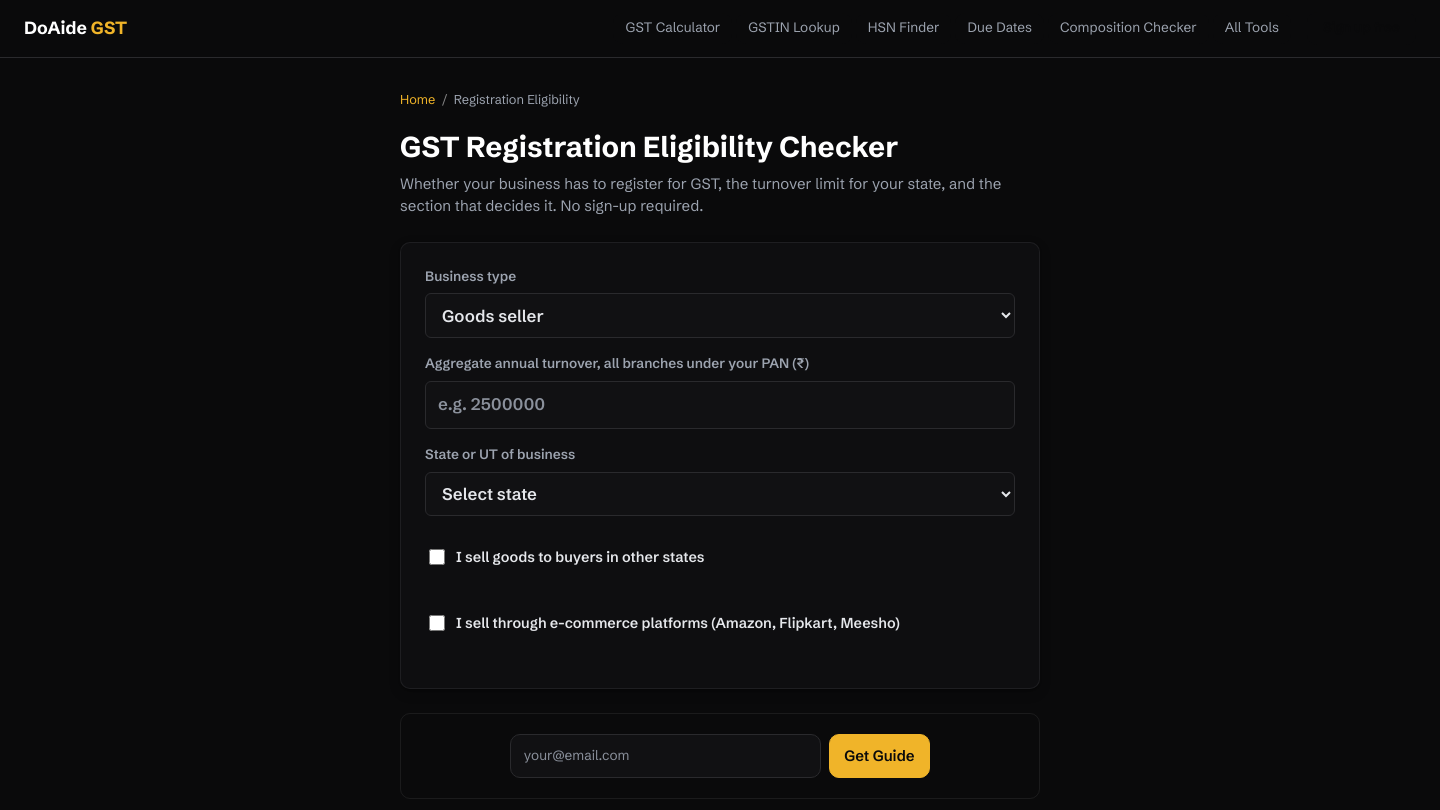
RegistrationCheckerPage › asks a casual taxable person nothing more and cites Section 24(ii)
Select "Casual taxable person (trade fairs, exhibitions)" in the dropdown labelled "Business type" at (720, 316), box [425,293,1015,338]
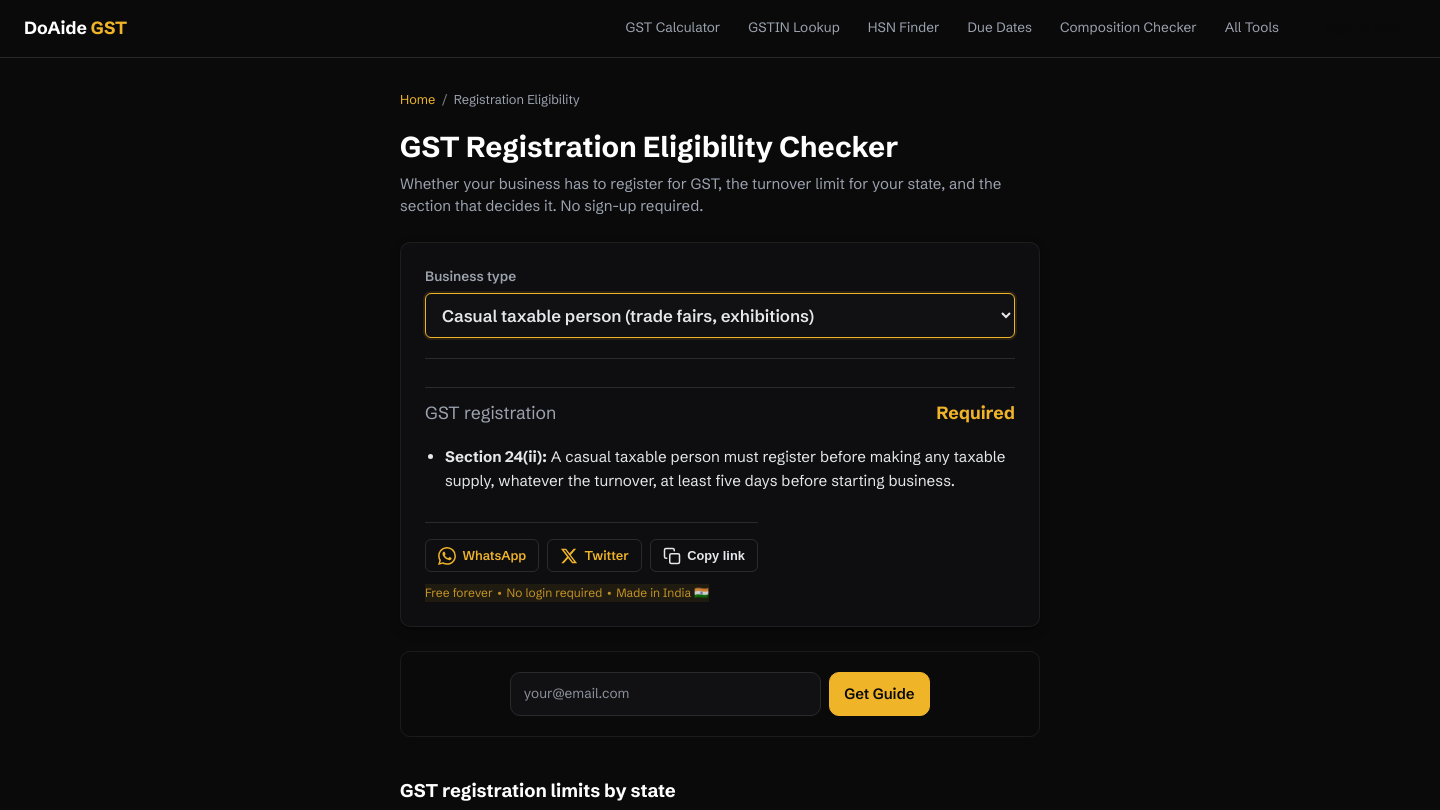
Now the label labelled "Aggregate annual turnover" is gone
Now the text "GST registration" shows "Required", box [936,402,1015,424]
Now the text "Section 24(ii):" is shown, box [445,447,547,466]
